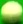white: (0, 0, 23, 24)
